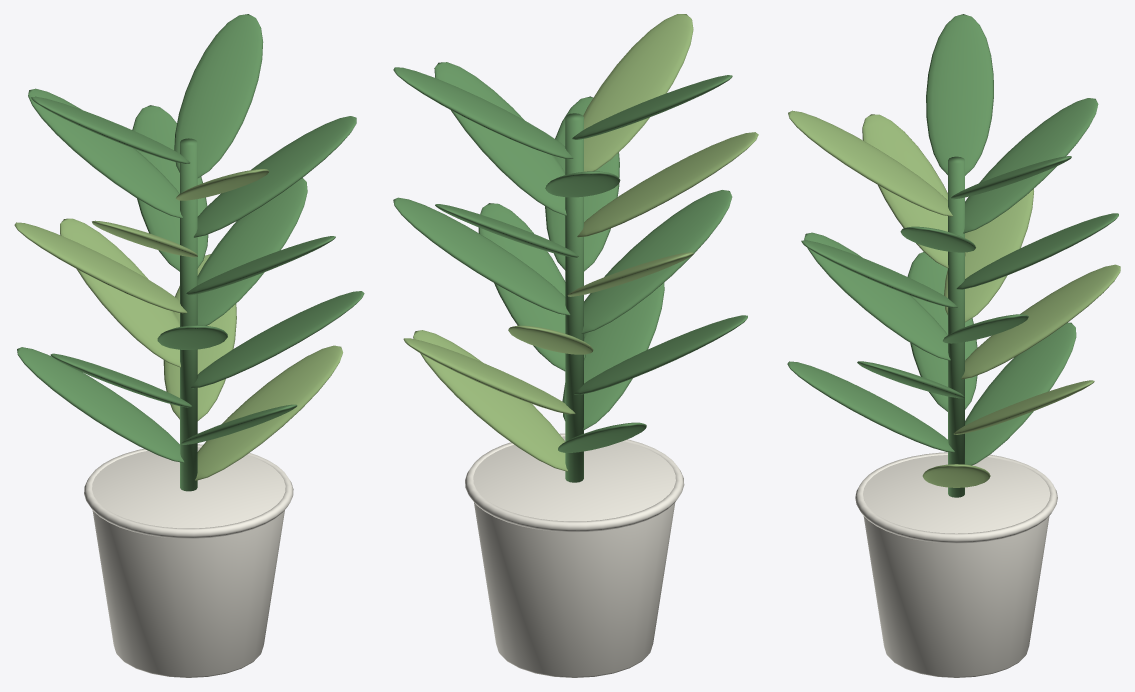
The model's file is atelier-palm.glb.
3 renders of one model, left to right at view 1: azimuth 30°, elevation 25°; view 2: azimuth 150°, elevation 25°; view 3: azimuth 270°, elevation 25°, orthographic. The views are drawn at different scales.
Visible parts, largest first — view 1: leaf.009, ceramic.045, leafLight.007; view 2: leaf.009, ceramic.045, leafLight.007; view 3: leaf.009, ceramic.045, leafLight.007.
Part boxes in pixels (box(x1,y1,x2,y2)): leaf.009: box(17, 14, 364, 491); ceramic.045: box(84, 444, 293, 677); leafLight.007: box(14, 169, 342, 480); leaf.009: box(393, 62, 747, 482); ceramic.045: box(465, 433, 684, 677); leafLight.007: box(403, 14, 758, 471); leaf.009: box(787, 14, 1118, 497); ceramic.045: box(855, 452, 1057, 677); leafLight.007: box(788, 110, 1120, 487).
Bounding box in the file's own units: 1.02 × 1.86 × 1.
